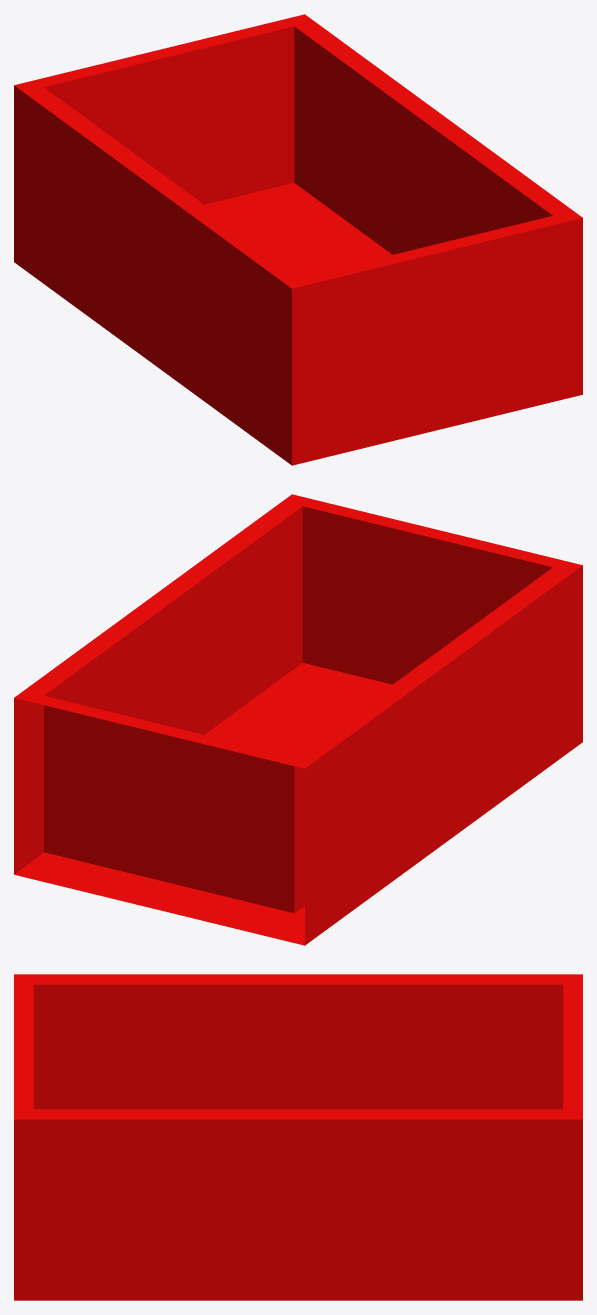
Rendered from WitchShop_Drawer2.fbx.
3 views of the same model, one above another, from view 1: azimuth 30°, elevation 25°; view 2: azimuth 150°, elevation 25°; view 3: azimuth 270°, elevation 25° (orthographic). The views are drawn at different scales.
Parts seen in each view (by area): view 1: Drawer1; view 2: Drawer1; view 3: Drawer1.
Part boxes in pixels (box(x1,y1,x2,y2)): Drawer1: box(14, 14, 582, 465); Drawer1: box(14, 494, 582, 945); Drawer1: box(14, 974, 582, 1300).
Size of the model in its own units: 54.87 by 31.88 by 90.84.
